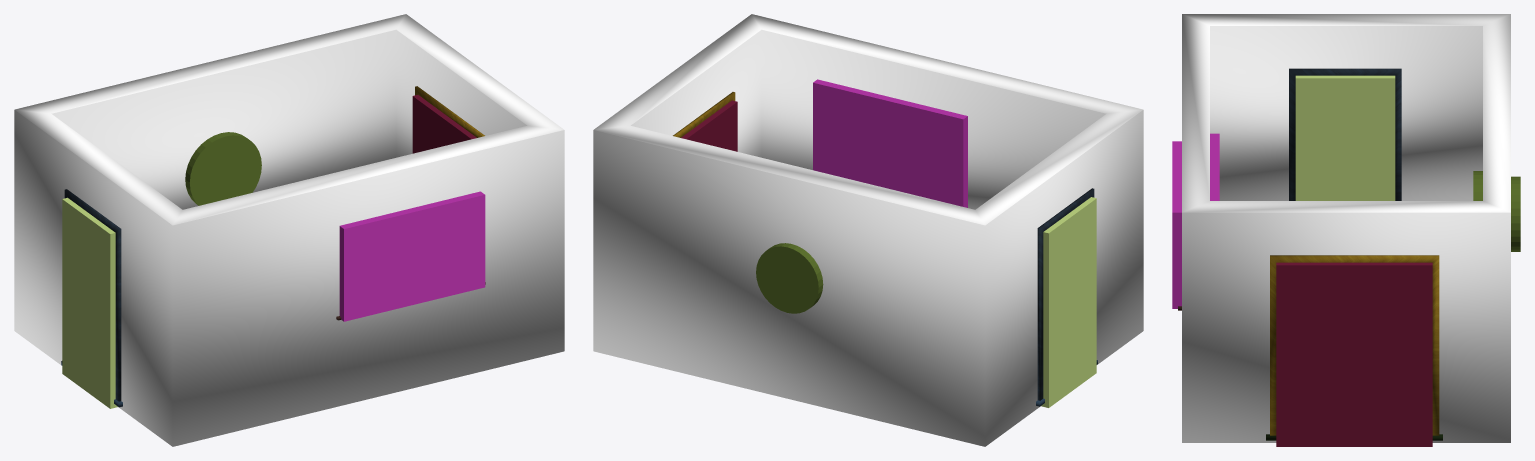
The model's file is soba5sa3ipo.glb.
3 views of the same model, side by side, from view 1: azimuth 30°, elevation 25°; view 2: azimuth 150°, elevation 25°; view 3: azimuth 270°, elevation 25° (orthographic). The views are drawn at different scales.
Visible parts, largest first — view 1: Wall, hole.001, hole.003, hole.002, hole, Door.002, Door; view 2: Wall, hole.001, hole.003, hole.002, Door.002, hole; view 3: Wall, hole, hole.003, Door, Door.002, hole.001, hole.002.
Boxes of the visible parts, bbox=[...] form: Wall: bbox=[14, 14, 564, 446]; hole.001: bbox=[339, 191, 485, 321]; hole.003: bbox=[62, 197, 117, 408]; hole.002: bbox=[185, 132, 261, 205]; hole: bbox=[412, 95, 476, 153]; Door.002: bbox=[61, 189, 122, 407]; Door: bbox=[415, 86, 484, 137]; Wall: bbox=[593, 14, 1143, 446]; hole.001: bbox=[813, 79, 967, 207]; hole.003: bbox=[1041, 197, 1096, 407]; hole.002: bbox=[756, 243, 823, 313]; Door.002: bbox=[1036, 188, 1097, 406]; hole: bbox=[681, 100, 737, 151]; Wall: bbox=[1182, 14, 1510, 442]; hole: bbox=[1276, 262, 1432, 446]; hole.003: bbox=[1295, 75, 1395, 200]; Door: bbox=[1266, 255, 1442, 440]; Door.002: bbox=[1289, 68, 1401, 200]; hole.001: bbox=[1172, 133, 1219, 308]; hole.002: bbox=[1473, 171, 1520, 251].
Bounding box in the file's own units: 5.2 × 2.7 × 3.7.
10 materials, 1 textured.
